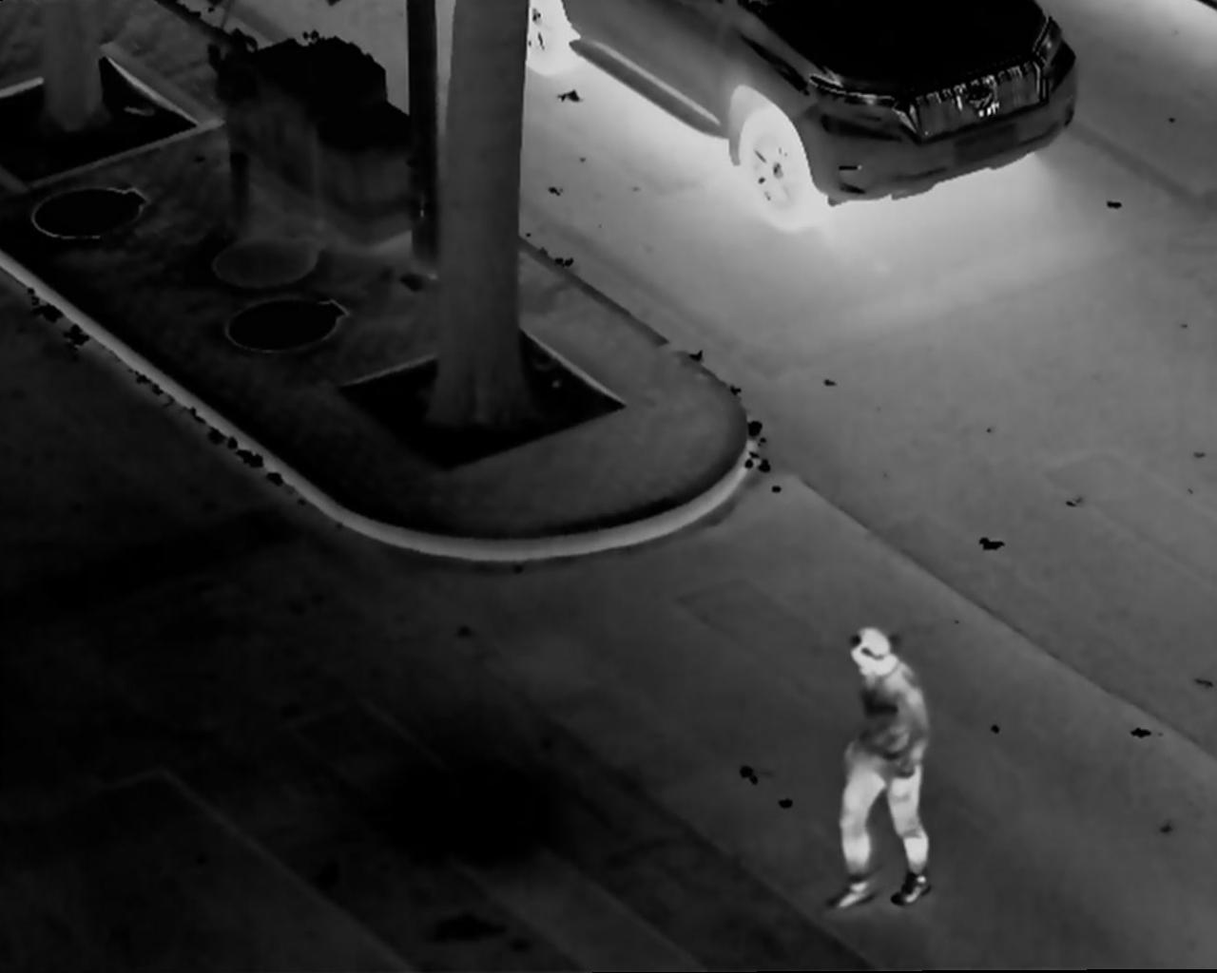person: (825, 622, 944, 914)
